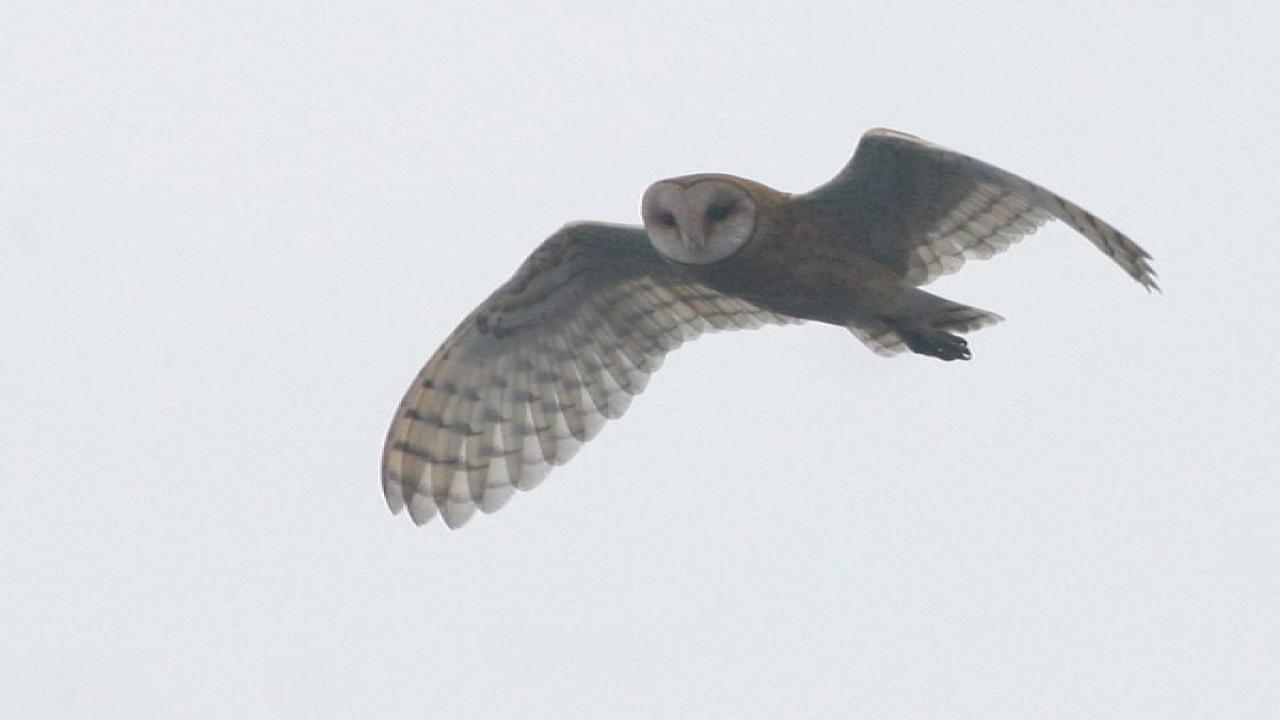Bird: (361, 120, 1178, 536)
